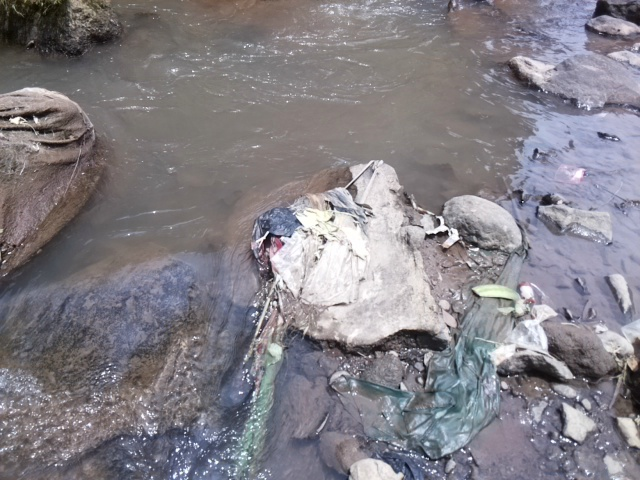Sampah_Plastik: (250, 207, 303, 251)
